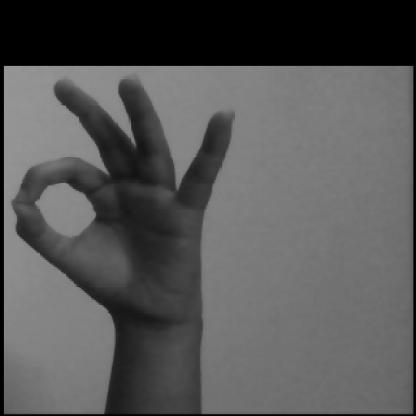ok: (4, 64, 262, 333)
